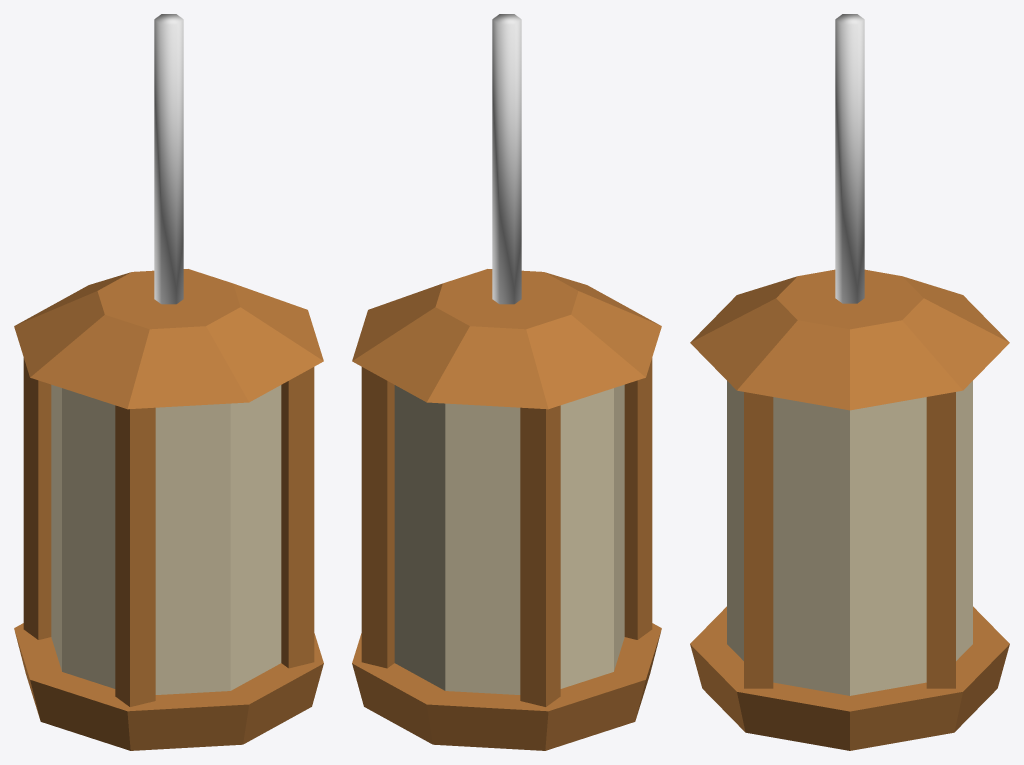
Rendered from lihzahrd_lantern_v0.glb.
3 views of the same model, side by side, from view 1: azimuth 30°, elevation 25°; view 2: azimuth 150°, elevation 25°; view 3: azimuth 270°, elevation 25° (orthographic).
Visible parts, largest first — view 1: lihzahrd_lantern_v0; view 2: lihzahrd_lantern_v0; view 3: lihzahrd_lantern_v0.
Part boxes in pixels (<box>): lihzahrd_lantern_v0: <box>14,14,323,750</box>; lihzahrd_lantern_v0: <box>352,14,661,750</box>; lihzahrd_lantern_v0: <box>690,14,1009,750</box>.
Bounding box in the file's own units: 0.26 × 0.6 × 0.26.
